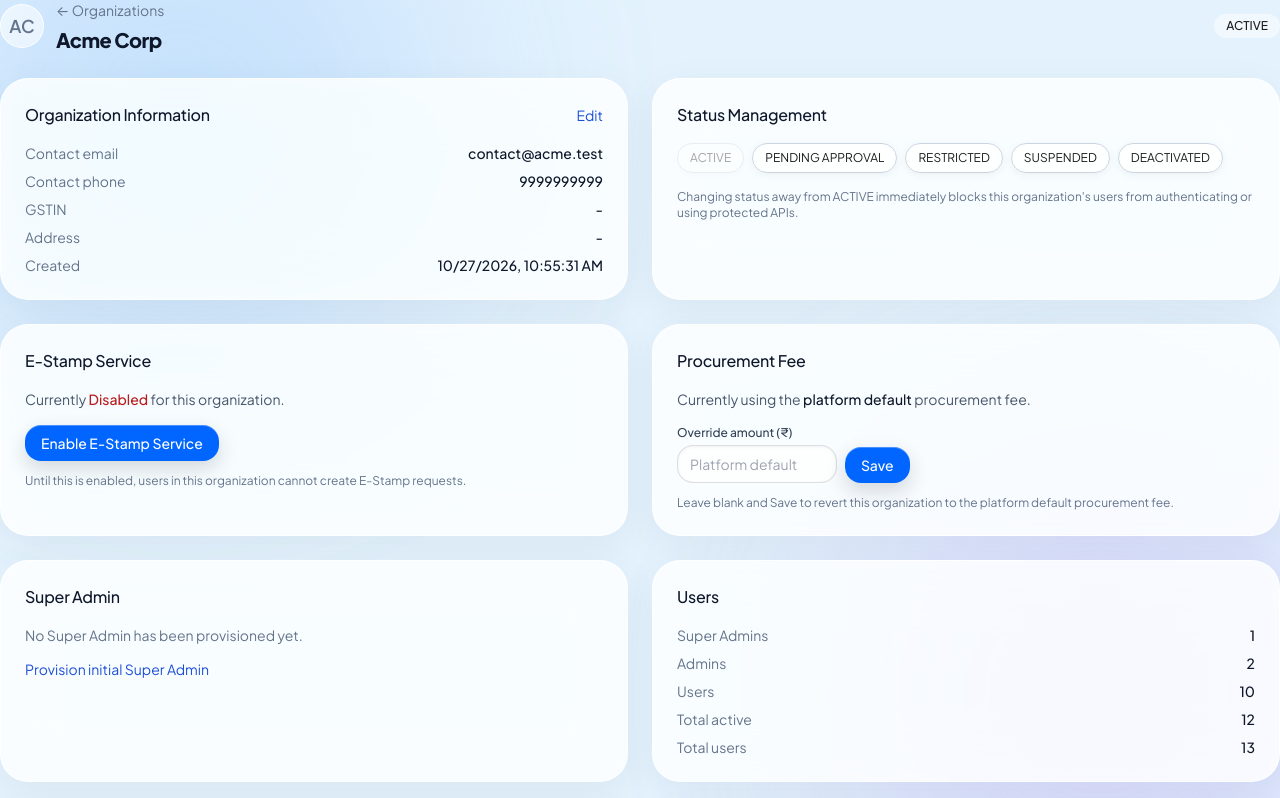
Test case: OrganizationDetailPage - Super Admin provisioning › shows the one-time temp password after provisioning and never persists/repeats it
Expected: the text "No Super Admin has been provisioned yet." is shown, x1=25 y1=626 x2=303 y2=644
Step 1. Click the button "Provision initial Super Admin" → (117,669), box x1=25 y1=659 x2=209 y2=679
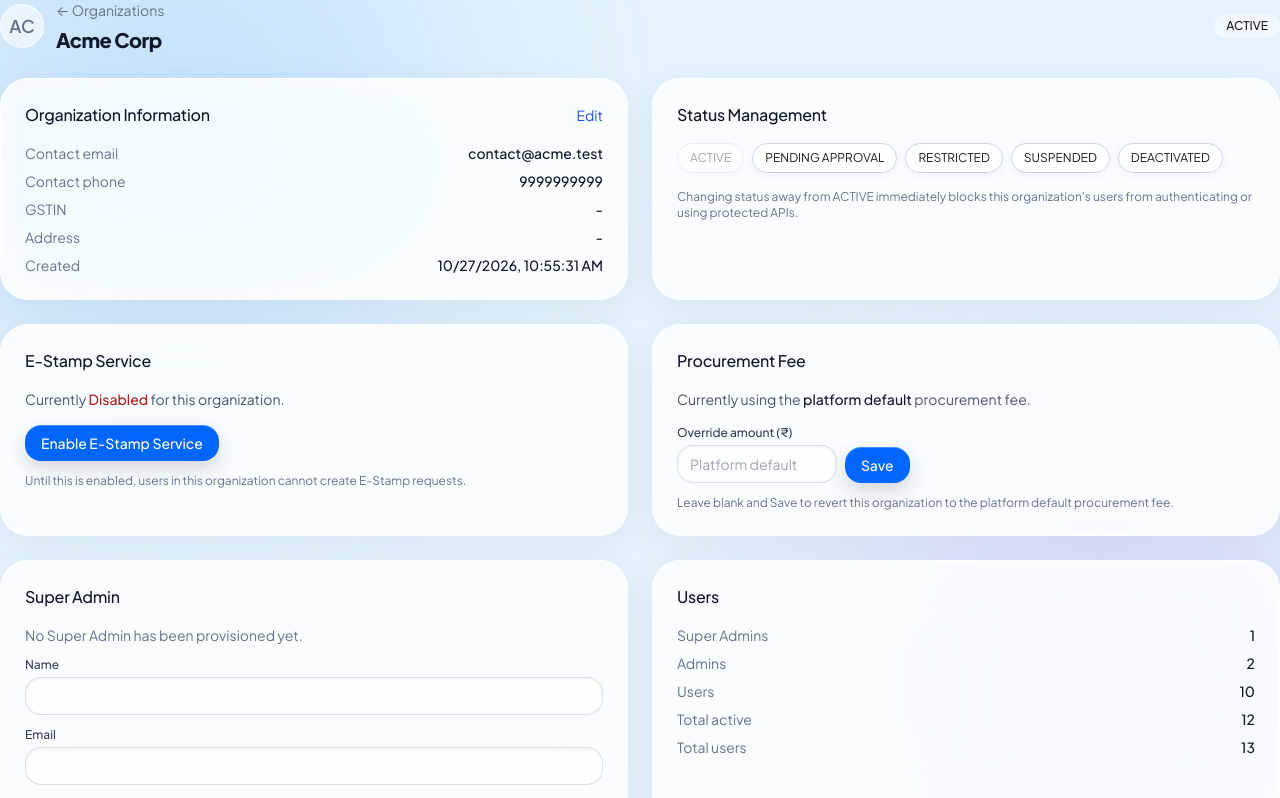
Step 2. Type "New Admin" into the field labelled "Name" → (314,696), box x1=25 y1=677 x2=603 y2=715
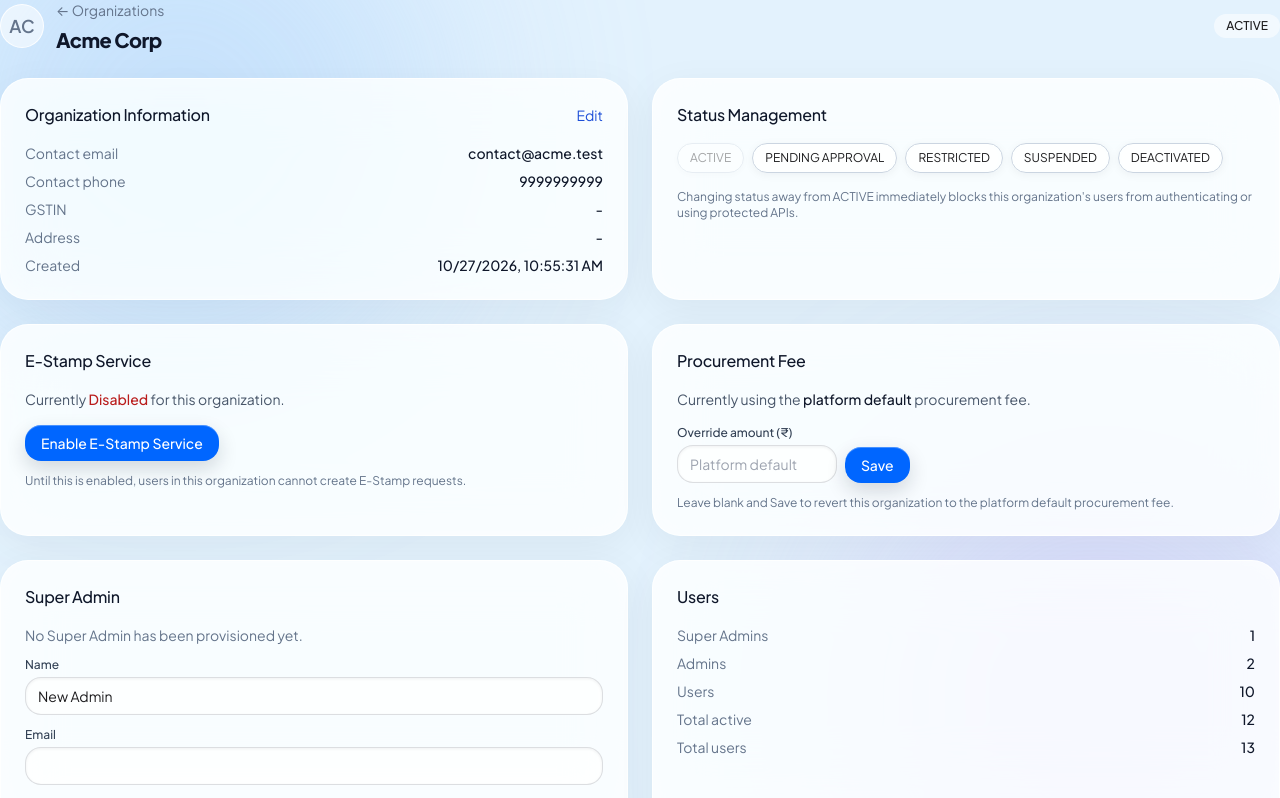
Step 3. Type "new@acme.test" into the field labelled "Email" → (314,766), box x1=25 y1=747 x2=603 y2=785
(page scrolled)
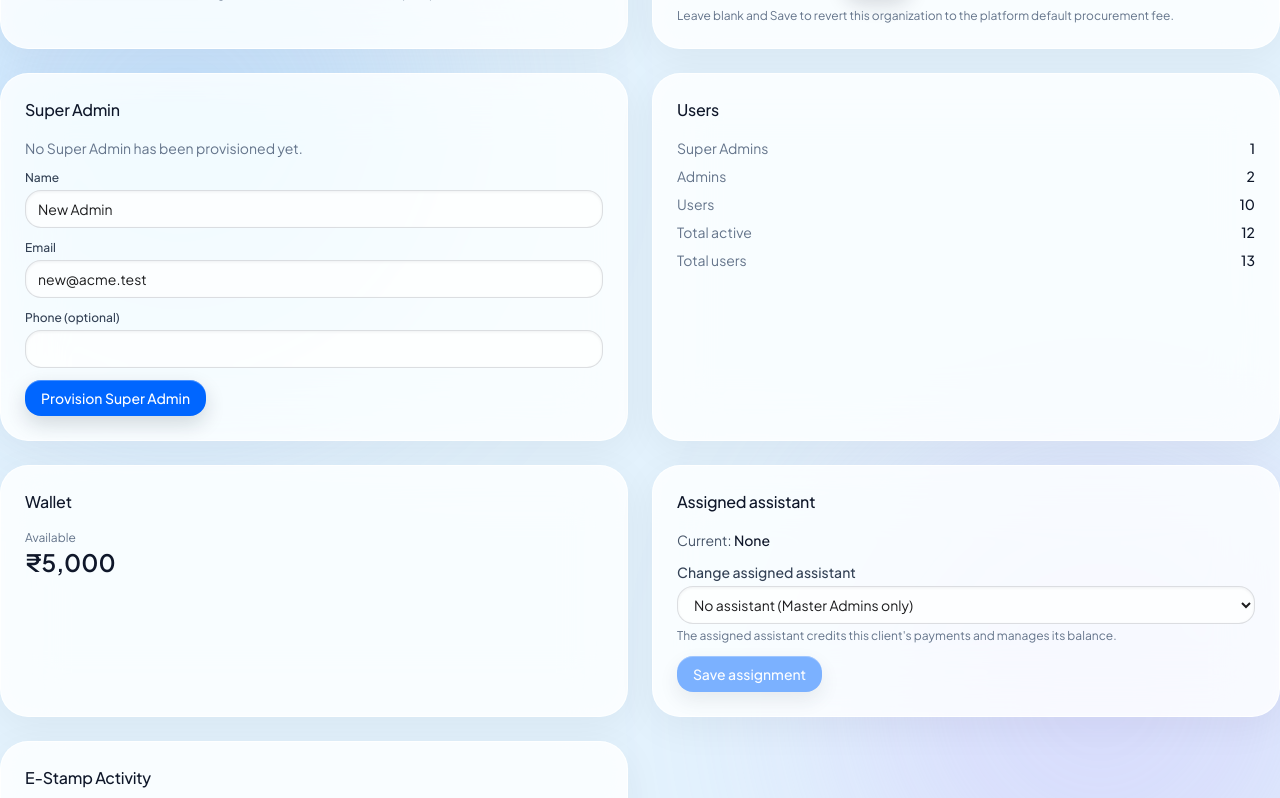
Step 4. Click the button "Provision Super Admin" → (116,398), box x1=25 y1=380 x2=206 y2=416
(page scrolled)
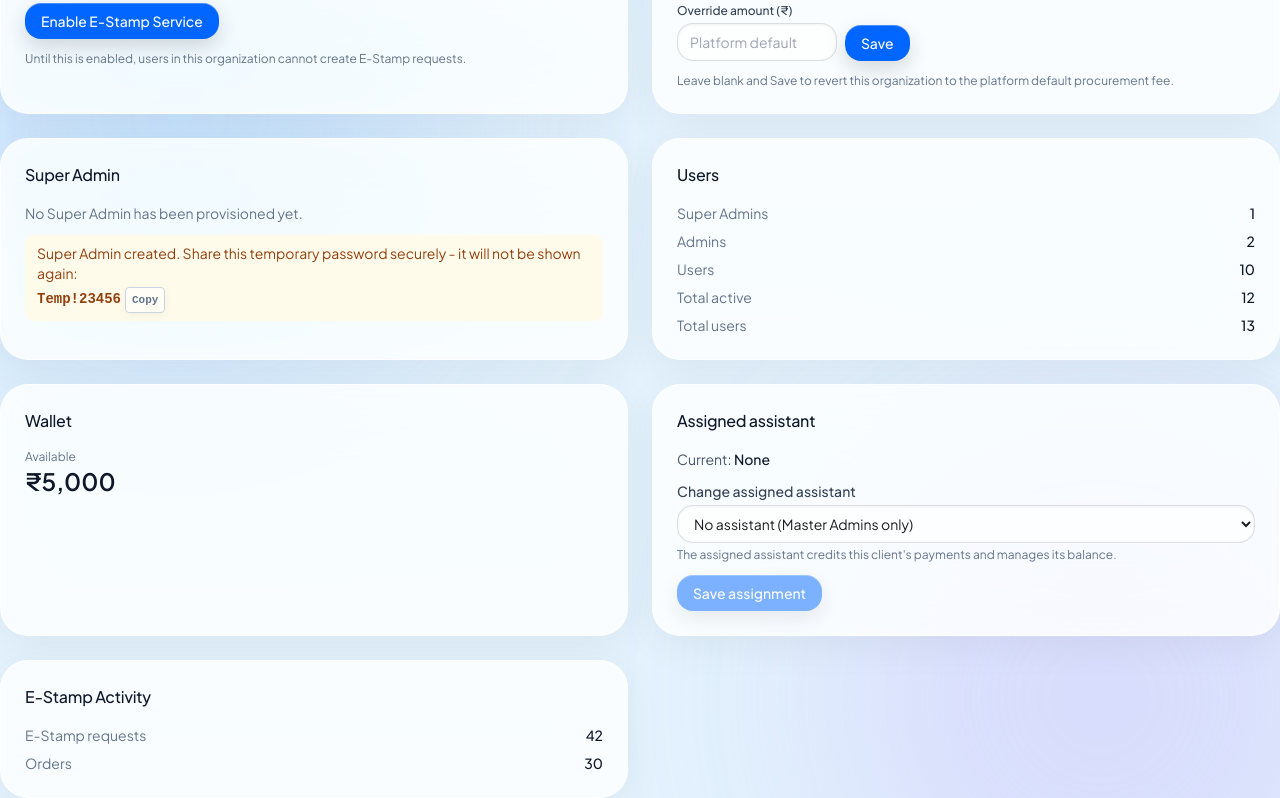
Expected: the text "Temp!23456" is shown, x1=37 y1=291 x2=121 y2=307
